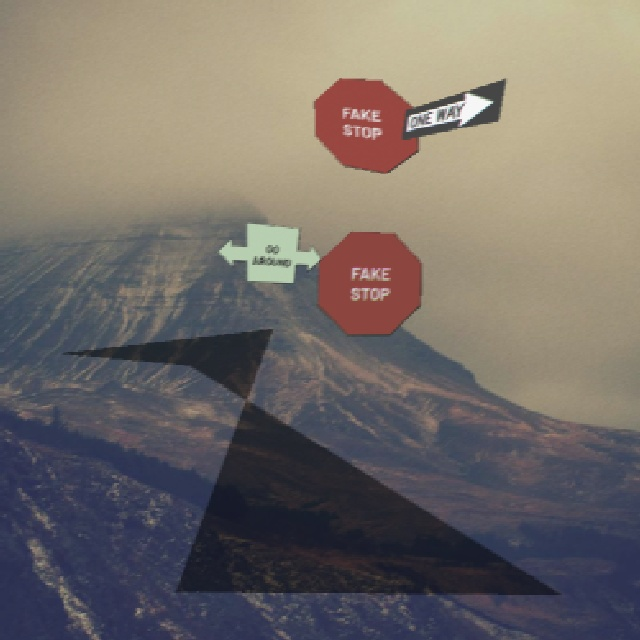FAKE_STOP: (316, 230, 421, 335), (313, 77, 418, 173)
GO_AROUND: (216, 221, 321, 283)
ONE_WAY_ right: (400, 77, 505, 139)
